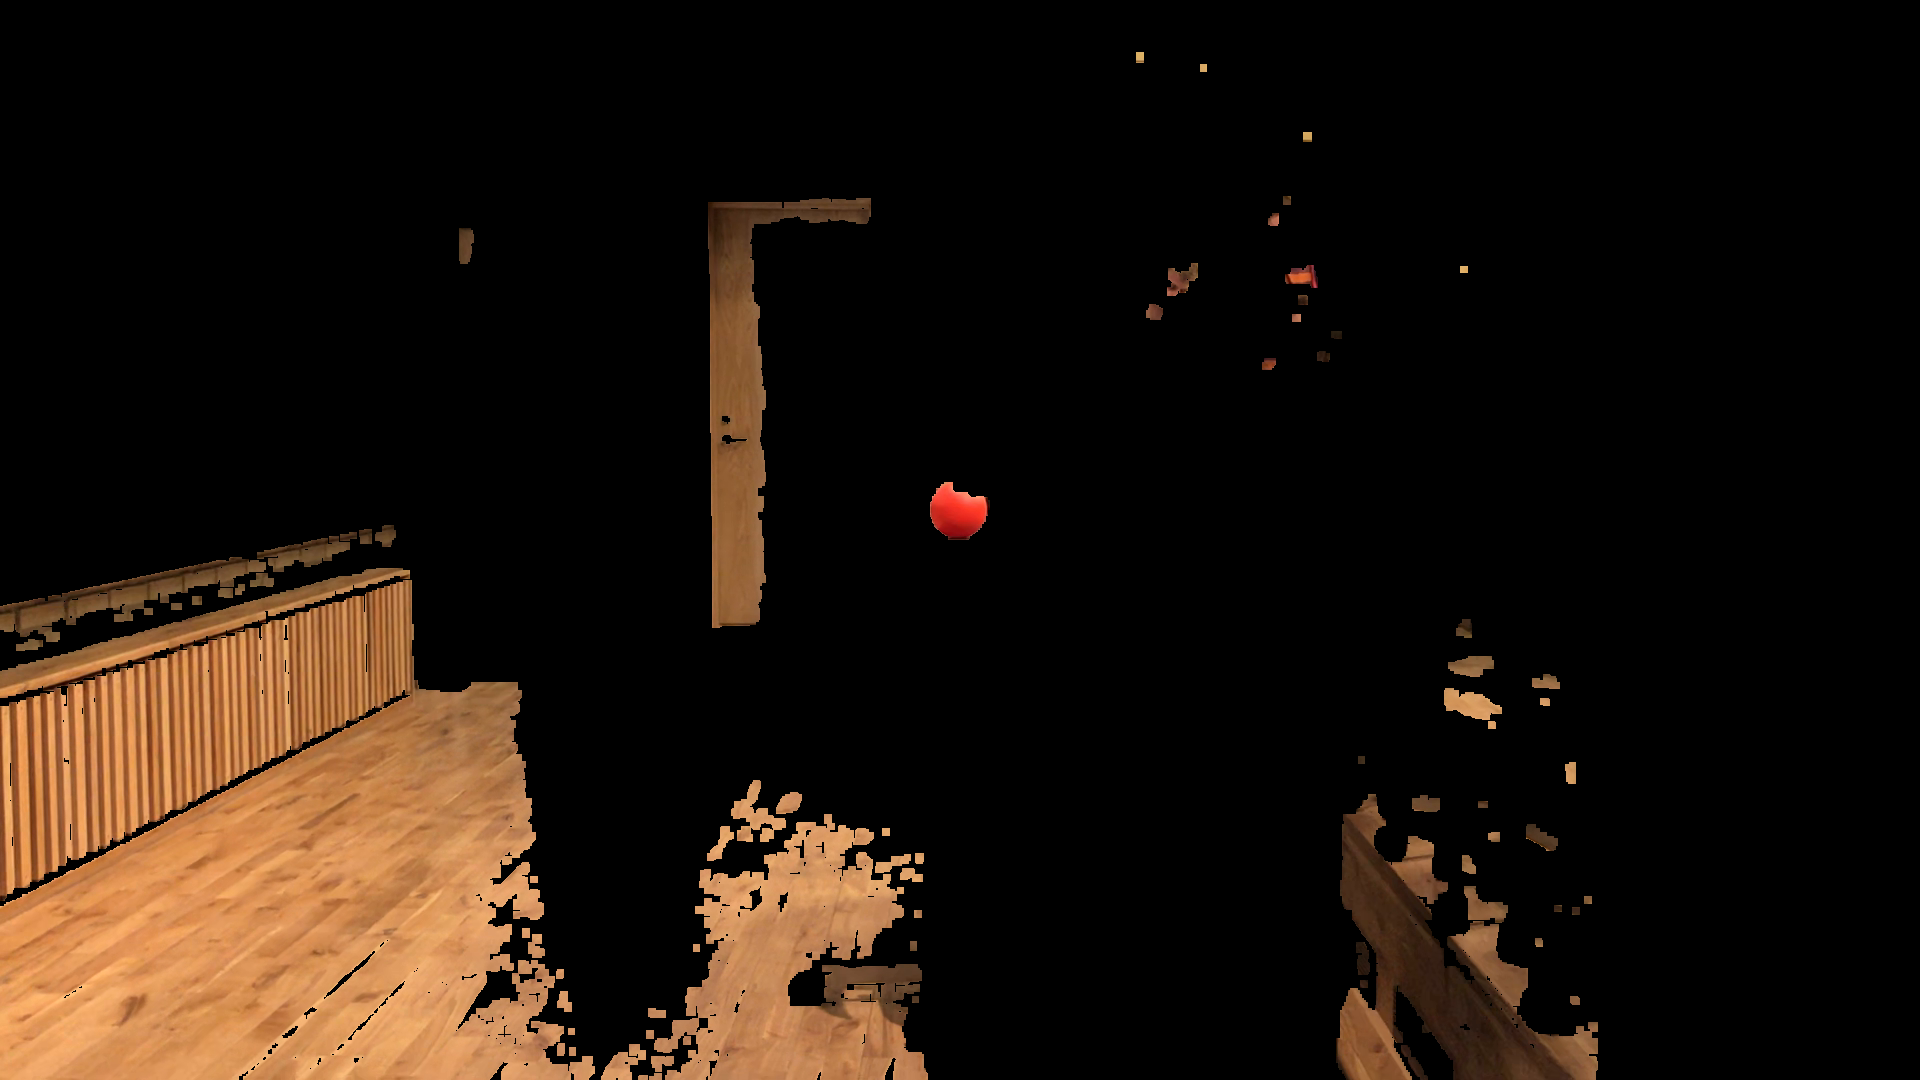Ball: (930, 484, 996, 550)
